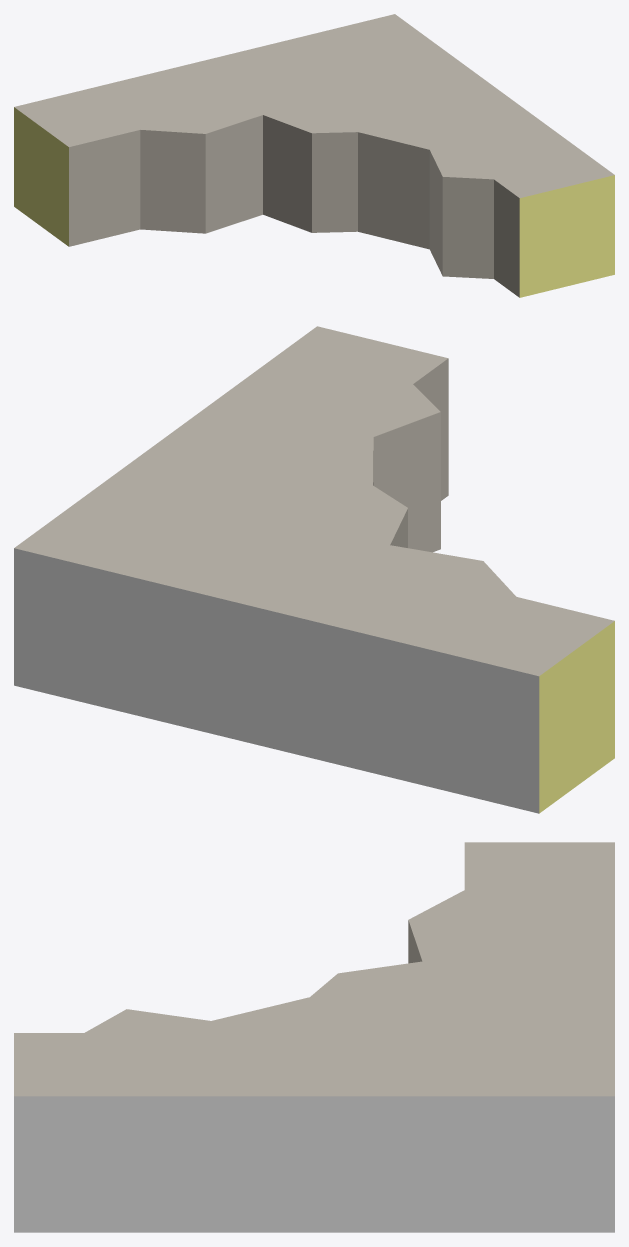
Rendered from Cracked_Curve_Inner_4x4_1_Mid.glb.
3 views of the same model, one above another, from view 1: azimuth 30°, elevation 25°; view 2: azimuth 150°, elevation 25°; view 3: azimuth 270°, elevation 25° (orthographic). The views are drawn at different scales.
Parts seen in each view (by area): view 1: Cracked_Curve_Inner_4x4_1_Mid; view 2: Cracked_Curve_Inner_4x4_1_Mid; view 3: Cracked_Curve_Inner_4x4_1_Mid.
Boxes of the visible parts, left/top/right/bottom form: Cracked_Curve_Inner_4x4_1_Mid: left=14, top=14, right=614, bottom=297; Cracked_Curve_Inner_4x4_1_Mid: left=14, top=326, right=614, bottom=813; Cracked_Curve_Inner_4x4_1_Mid: left=14, top=842, right=614, bottom=1232.
Bounding box in the file's own units: 400 × 100 × 400.
